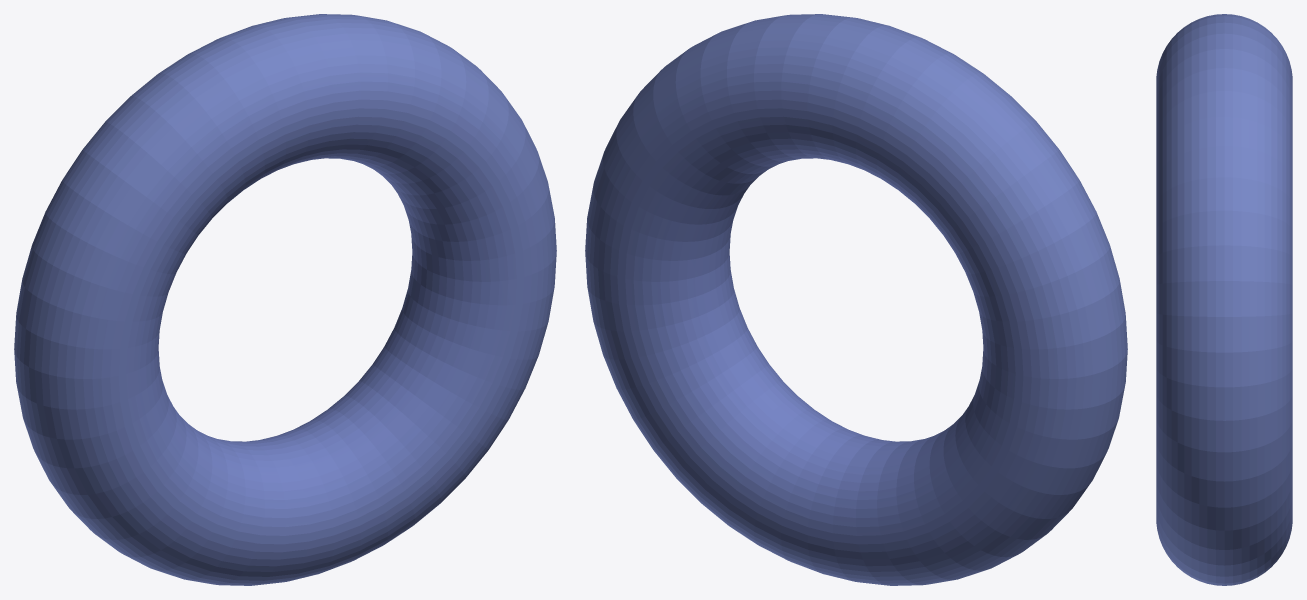
The picture shows the model from 3 angles, left to right: view 1: azimuth 30°, elevation 25°; view 2: azimuth 150°, elevation 25°; view 3: azimuth 270°, elevation 25°; orthographic projection. The views are drawn at different scales.
Parts seen in each view (by area): view 1: world; view 2: world; view 3: world.
Part boxes in pixels (bbox=[...]): world: bbox=[14, 14, 556, 585]; world: bbox=[585, 14, 1127, 585]; world: bbox=[1156, 14, 1292, 585].
Bounding box in the file's own units: 18.4 × 18.36 × 4.39.
